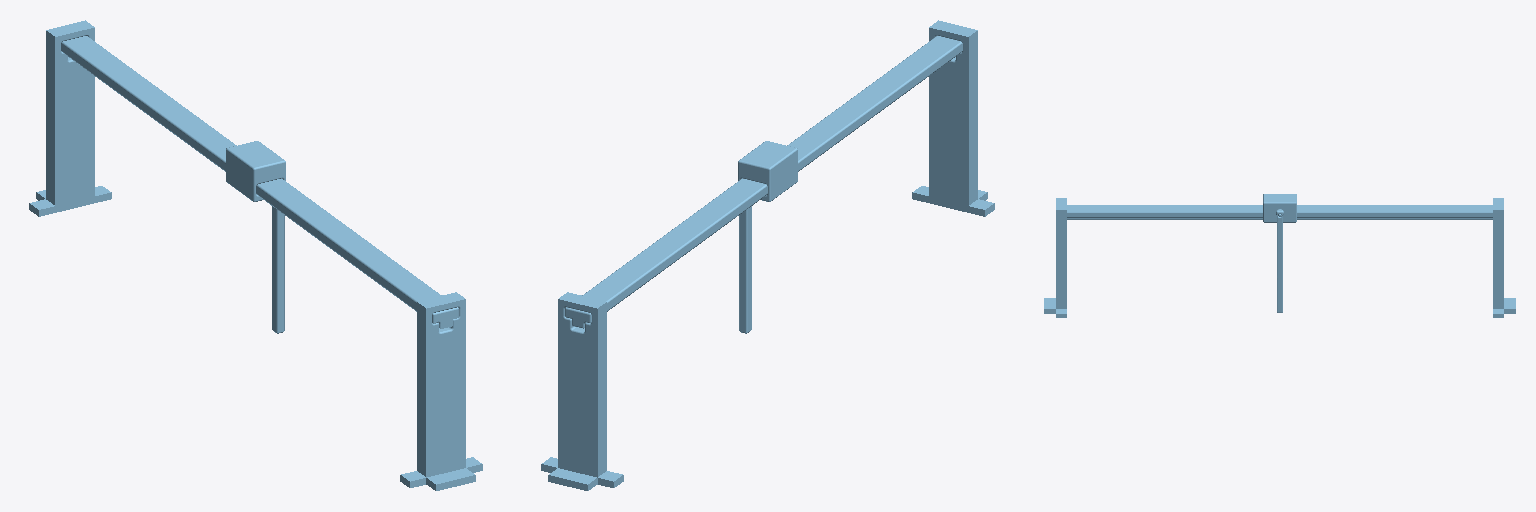
URDF robot description (cart_pole):
<robot name="cart_pole">

<link name="world" />


<joint name="world_to_base_joint" type="fixed">
    <origin xyz="0.0 0.0 0.0" rpy="0.0 0.0 0.0" />
    <parent link="world" />
    <child link="support_pole" />
</joint>

<link name="support_pole">
<visual>
<origin xyz="0.085000000000000019984 0.025000000000000001388 -0.019999999999999990008" rpy="0 -0 0" />
<geometry>
<mesh filename="package://cart_pole_description/cart_pole/support_plaform_1.stl"/>
</geometry>
<material name="support_plaform_1_material">
<color rgba="0.61568627450980395466 0.81176470588235294379 0.92941176470588238168 1.0"/>
</material>
</visual>
<collision>
<origin xyz="0.085000000000000019984 0.025000000000000001388 -0.019999999999999990008" rpy="0 -0 0" />
<geometry>
<mesh filename="package://cart_pole_description/cart_pole/support_plaform_1.stl"/>
</geometry>
</collision>
<inertial>
<origin xyz="0.085000000000000019984 0.0019366224157371760613 0.20527754982977566844" rpy="0 0 0"/>
<mass value="8.3650792577619803581" />
<inertia ixx="0.18809404056513884251" ixy="0"  ixz="0" iyy="0.19768960892502629445" iyz="0.0034874963072423744229" izz="0.014632587595117504606" />
</inertial>
</link>

<link name="cart_pole">
<visual>
<origin xyz="0.0050000000000000009714 -0.049999999999999988898 0" rpy="-1.570796326794896558 -1.570796326794896558 0" />
<geometry>
<mesh filename="package://cart_pole_description/cart_pole/cart_pole_line.stl"/>
</geometry>
<material name="cart_pole_line_material">
<color rgba="0.61568627450980395466 0.81176470588235294379 0.92941176470588238168 1.0"/>
</material>
</visual>
<collision>
<origin xyz="0.0050000000000000009714 -0.049999999999999988898 0" rpy="-1.570796326794896558 -1.570796326794896558 0" />
<geometry>
<mesh filename="package://cart_pole_description/cart_pole/cart_pole_line.stl"/>
</geometry>
</collision>
<inertial>
<origin xyz="-0.99507213325206489429 -0.021216690244781032104 -3.5306212902930945573e-05" rpy="0 0 0"/>
<mass value="17.129471613392958318" />
<inertia ixx="0.010371517126750266768" ixy="-2.2571194222369972551e-05"  ixz="8.5176426230256071983e-06" iyy="5.7133527876254550648" iyz="-5.938288855520099704e-06" izz="5.7091229148612372413" />
</inertial>
</link>

<link name="support_plaform_1">
<visual>
<origin xyz="0.0049999999999998934186 -0.48999999999999999112 6.9388939039072283776e-17" rpy="-1.570796326794896558 -1.570796326794896558 0" />
<geometry>
<mesh filename="package://cart_pole_description/cart_pole/support_plaform_1.stl"/>
</geometry>
<material name="support_plaform_1_material">
<color rgba="0.61568627450980395466 0.81176470588235294379 0.92941176470588238168 1.0"/>
</material>
</visual>
<collision>
<origin xyz="0.0049999999999998934186 -0.48999999999999999112 6.9388939039072283776e-17" rpy="-1.570796326794896558 -1.570796326794896558 0" />
<geometry>
<mesh filename="package://cart_pole_description/cart_pole/support_plaform_1.stl"/>
</geometry>
</collision>
<inertial>
<origin xyz="-0.018063377584262931691 -0.26472245017022433267 6.5441072379336884681e-17" rpy="0 0 0"/>
<mass value="8.3650792577619803581" />
<inertia ixx="0.19768960892502629445" ixy="0.0034874963072423744229"  ixz="0" iyy="0.014632587595117504606" iyz="0" izz="0.18809404056513884251" />
</inertial>
</link>

<joint name="fastened 3" type="fixed">
<origin xyz="-1.9900000000000002132 0 -1.3877787807814456755e-17" rpy="3.141592653589793116 -0 3.141592653589793116" />
<parent link="cart_pole" />
<child link="support_plaform_1" />
<axis xyz="0 0 1"/>
<limit effort="1" velocity="20" />
<joint_properties friction="0.0"/>
</joint>

<link name="cart_move">
<visual>
<origin xyz="0.010000000000000008882 -0.025000000000000022204 -0.075000000000000066613" rpy="-1.570796326794896558 -1.570796326794896336 0" />
<geometry>
<mesh filename="package://cart_pole_description/cart_pole/cart_move.stl"/>
</geometry>
<material name="cart_move_material">
<color rgba="0.61568627450980395466 0.81176470588235294379 0.92941176470588238168 1.0"/>
</material>
</visual>
<collision>
<origin xyz="0.010000000000000008882 -0.025000000000000022204 -0.075000000000000066613" rpy="-1.570796326794896558 -1.570796326794896336 0" />
<geometry>
<mesh filename="package://cart_pole_description/cart_pole/cart_move.stl"/>
</geometry>
</collision>
<inertial>
<origin xyz="-0.039380514238607201849 0.03507424335133896981 -5.5511151231257827021e-17" rpy="0 0 0"/>
<mass value="2.7582989593438584919" />
<inertia ixx="0.0072884337806232426735" ixy="1.7214130923659983201e-05"  ixz="5.5457548773363819873e-21" iyy="0.007943139603199119228" iyz="9.1364122808394913014e-19" izz="0.0051071794741707502926" />
</inertial>
</link>

<link name="cart_swinger">
<visual>
<origin xyz="0 -0.47999999999999998224 -0.0050000000000000044409" rpy="-1.570796326794896558 -0 0" />
<geometry>
<mesh filename="package://cart_pole_description/cart_pole/cart_swinger.stl"/>
</geometry>
<material name="cart_swinger_material">
<color rgba="0.61568627450980395466 0.81176470588235294379 0.92941176470588238168 1.0"/>
</material>
</visual>
<collision>
<origin xyz="0 -0.47999999999999998224 -0.0050000000000000044409" rpy="-1.570796326794896558 -0 0" />
<geometry>
<mesh filename="package://cart_pole_description/cart_pole/cart_swinger.stl"/>
</geometry>
</collision>
<inertial>
<origin xyz="-2.157282115343227227e-17 -0.23320688038281839338 0.0074999999999999893141" rpy="0 0 0"/>
<mass value="0.96730709424135585817" />
<inertia ixx="0.019645015474623172408" ixy="0"  ixz="6.5797313948525898238e-12" iyy="0.00011766776891047566519" iyz="0" izz="0.019666908757294859073" />
</inertial>
</link>

<joint name="continuous_revolute 1" type="continuous">
<origin xyz="0.035000000000000003331 0.024999999999999966693 0" rpy="-0 -1.570796326794896336 0" />
<parent link="cart_move" />
<child link="cart_swinger" />
<axis xyz="0 0 1"/>
<limit effort="1" velocity="20" />
<joint_properties friction="0.0"/>
</joint>

<joint name="slider 1" type="prismatic">
<origin xyz="-0.99499999999999999556 -0.024999999999999966693 0.040000000000000035527" rpy="-0 -1.570796326794896558 0" />
<parent link="cart_pole" />
<child link="cart_move" />
<axis xyz="0 0 1"/>
<limit effort="1" velocity="20" lower="-0.8499999999999999778" upper="0.8499999999999999778"/>
<joint_properties friction="0.0"/>
</joint>

<joint name="fastened 2" type="fixed">
<origin xyz="0.084999999999999964473 0.019999999999999993477 0.46999999999999997335" rpy="1.570796326794896558 -0 1.570796326794896558" />
<parent link="support_pole" />
<child link="cart_pole" />
<axis xyz="0 0 1"/>
<limit effort="1" velocity="20" />
<joint_properties friction="0.0"/>
</joint>


</robot>

--- What the picture shows (computed from the rendered views, not written in the file) ---
3 views of the same robot in one strip: view 1: azimuth 30°, elevation 25°; view 2: azimuth 150°, elevation 25°; view 3: azimuth 270°, elevation 25° (orthographic).
Robot: cart_pole — 6 links, 5 joints (1 continuous, 1 prismatic, 3 fixed); root link world; default pose: every joint at zero.
Links seen in each view (by area): view 1: cart_pole, support_plaform_1, support_pole, cart_move, cart_swinger; view 2: cart_pole, support_pole, support_plaform_1, cart_move, cart_swinger; view 3: cart_pole, support_pole, support_plaform_1, cart_move, cart_swinger.
Link boxes in pixels (x1,y1,x2,y2): cart_pole: [61, 36, 458, 328]; support_plaform_1: [400, 292, 482, 490]; support_pole: [29, 20, 111, 216]; cart_move: [226, 141, 285, 201]; cart_swinger: [272, 206, 284, 333]; cart_pole: [565, 36, 962, 328]; support_pole: [541, 292, 623, 490]; support_plaform_1: [912, 20, 994, 216]; cart_move: [738, 141, 797, 201]; cart_swinger: [739, 206, 751, 333]; cart_pole: [1067, 205, 1492, 219]; support_pole: [1493, 198, 1515, 317]; support_plaform_1: [1044, 198, 1066, 317]; cart_move: [1263, 194, 1296, 222]; cart_swinger: [1277, 210, 1282, 312].
Size in the robot's own frame: 0.22 by 2.1 by 0.54 metres.
Meshes: 4 distinct files referenced, 5 mesh visuals loaded (4 binary STL).